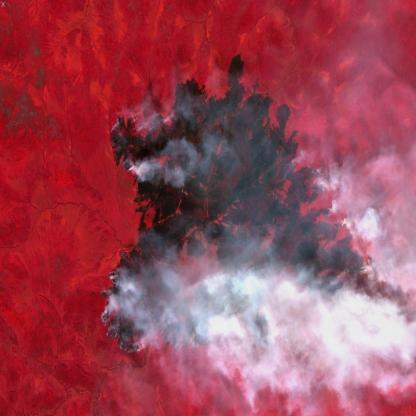fire: (99, 108, 371, 356)
